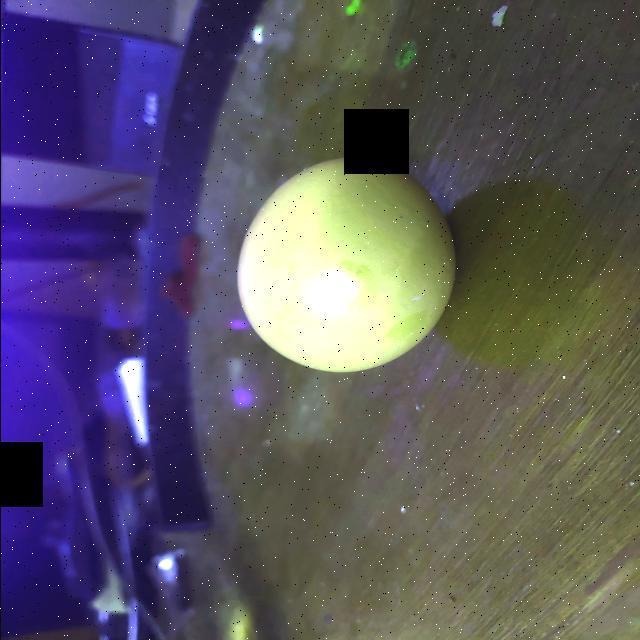egg: (227, 148, 463, 376)
